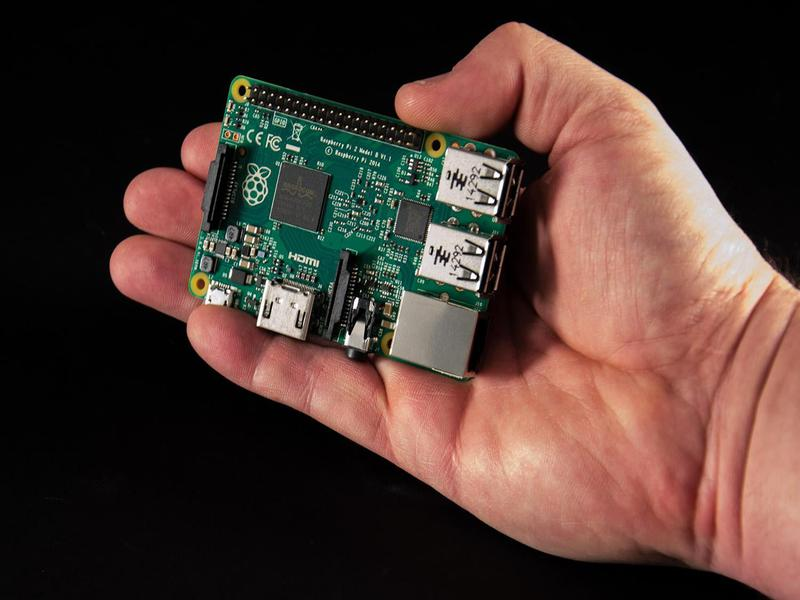Raspberry_Pi_3: (179, 68, 539, 385)
